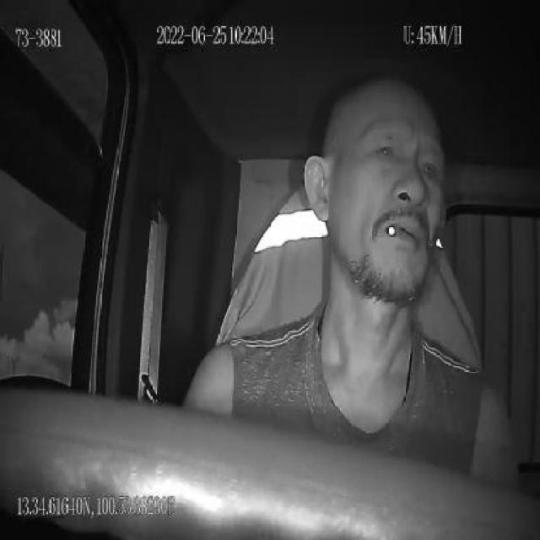smoking: (386, 223, 400, 237)
